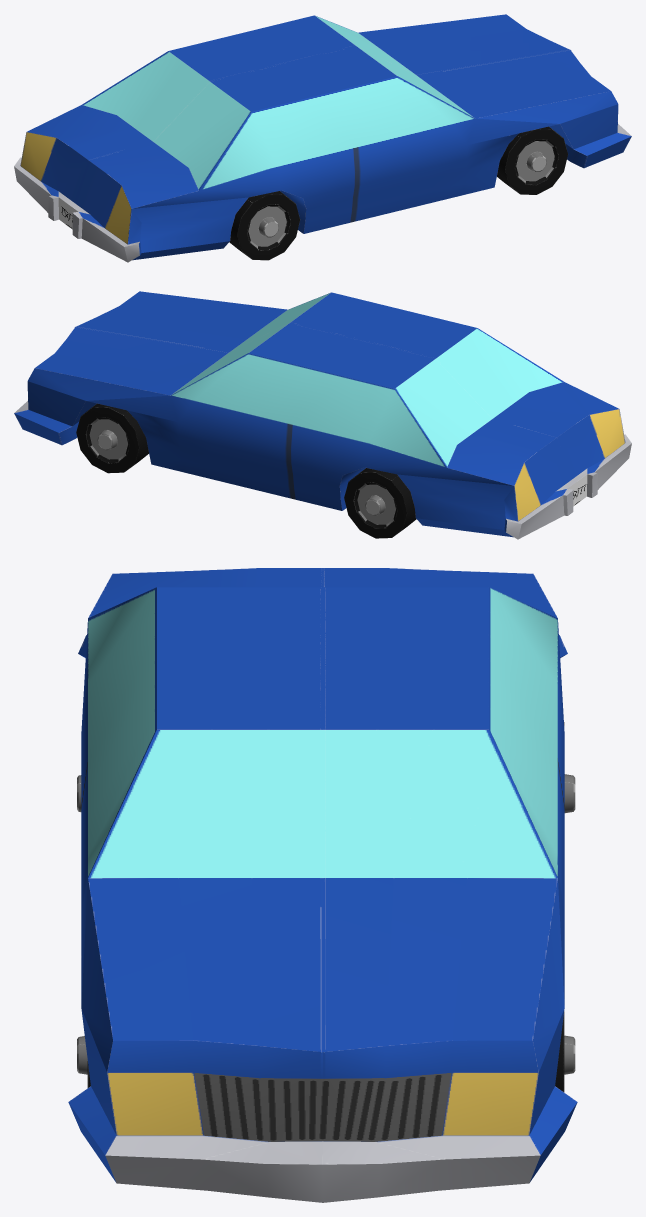
File: Car.fbx
3 views of the same model, one above another, from view 1: azimuth 30°, elevation 25°; view 2: azimuth 150°, elevation 25°; view 3: azimuth 270°, elevation 25° (orthographic). The views are drawn at different scales.
Visible parts, largest first — view 1: pCube1, pCylinder9, pCylinder10; view 2: pCube1, pCylinder9, pCylinder10; view 3: pCube1, pCylinder10.
Boxes of the visible parts, x1,y1,x2,y2 form: pCube1: [14, 14, 631, 262]; pCylinder9: [229, 191, 300, 260]; pCylinder10: [497, 126, 567, 194]; pCube1: [14, 291, 631, 539]; pCylinder9: [344, 468, 416, 538]; pCylinder10: [76, 403, 148, 473]; pCube1: [68, 568, 577, 1202]; pCylinder10: [77, 1012, 575, 1091].
Size of the model in its own units: 496 by 123 by 207.
2 materials, 2 textured.
